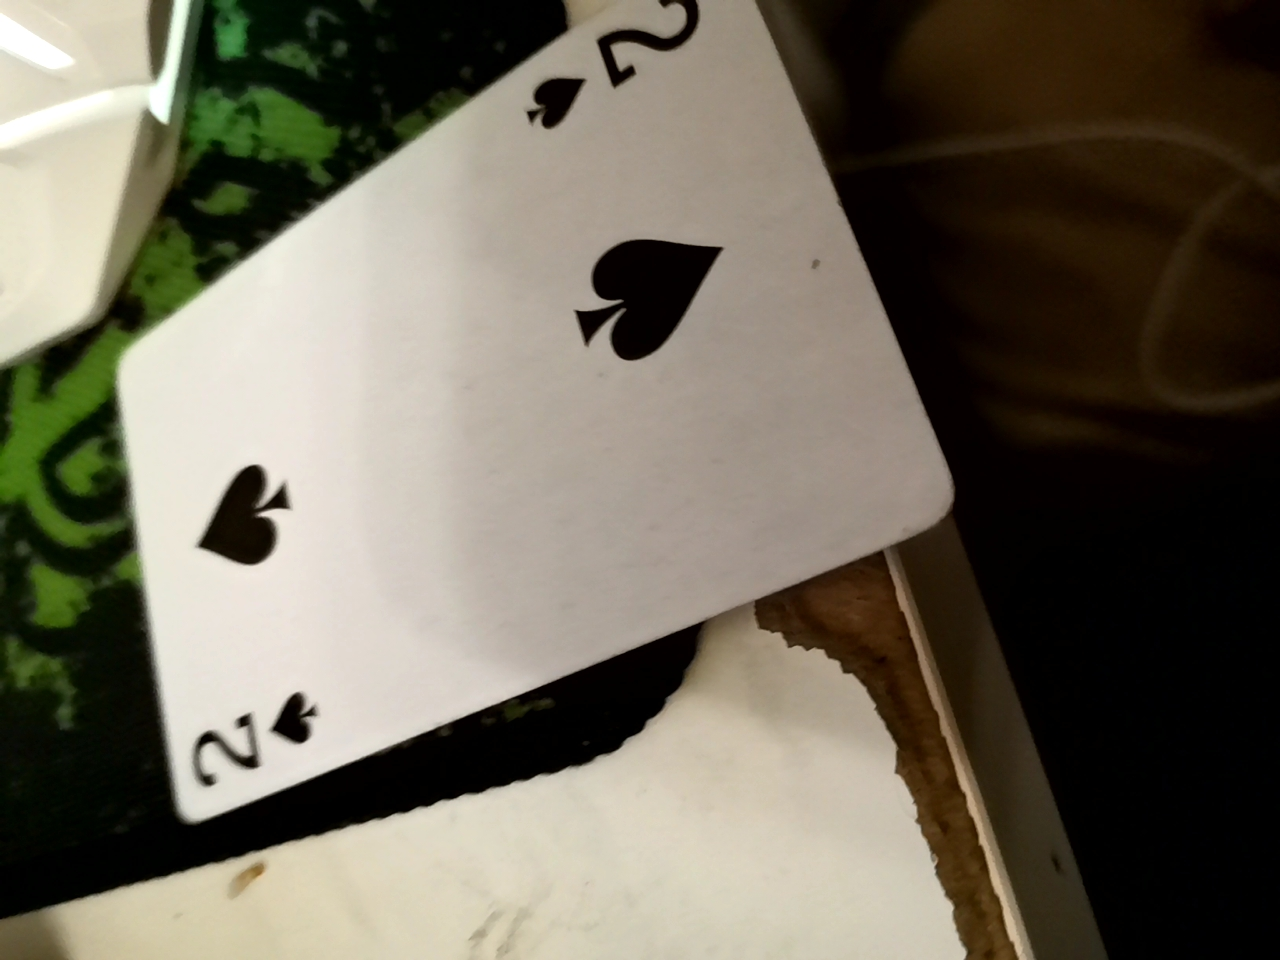ht 2: (82, 4, 977, 840)
